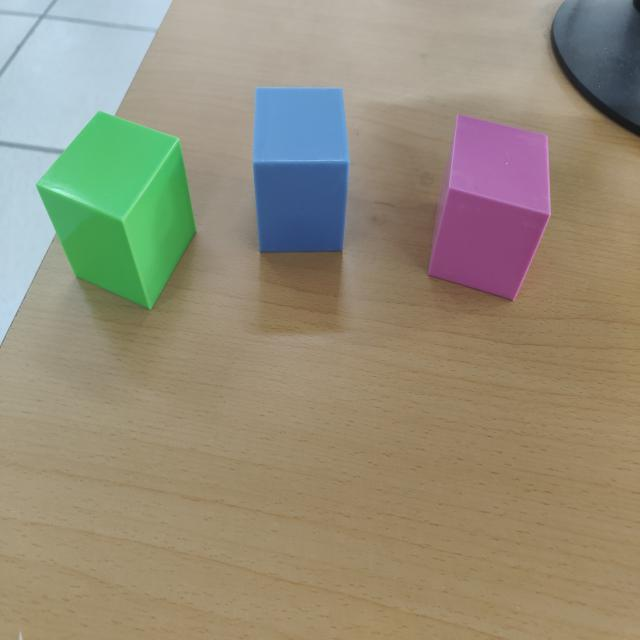blue: (252, 88, 350, 255)
green: (35, 113, 197, 312)
pink: (427, 114, 550, 303)
